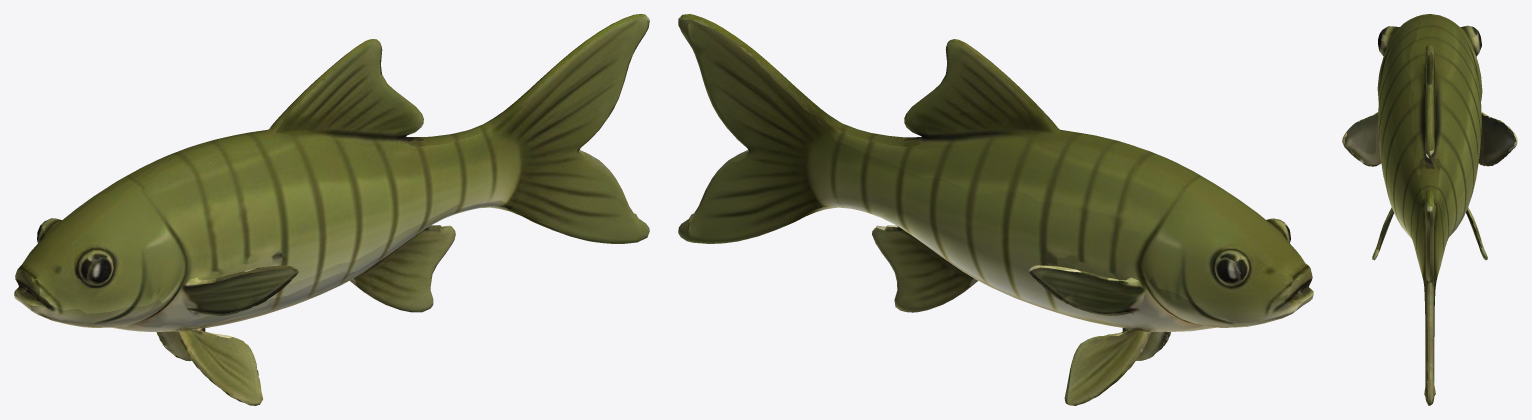
File: fish_reedling.glb
The picture shows the model from 3 angles, left to right: view 1: azimuth 30°, elevation 25°; view 2: azimuth 150°, elevation 25°; view 3: azimuth 270°, elevation 25°; orthographic projection. The views are drawn at different scales.
Parts seen in each view (by area): view 1: fish_reedling; view 2: fish_reedling; view 3: fish_reedling.
Part boxes in pixels (x1,y1,x2,y2): fish_reedling: [14, 14, 649, 405]; fish_reedling: [678, 14, 1313, 405]; fish_reedling: [1342, 14, 1517, 405].
Size of the model in its own units: 1 by 0.4685 by 0.2691.
1 material, 1 textured.
